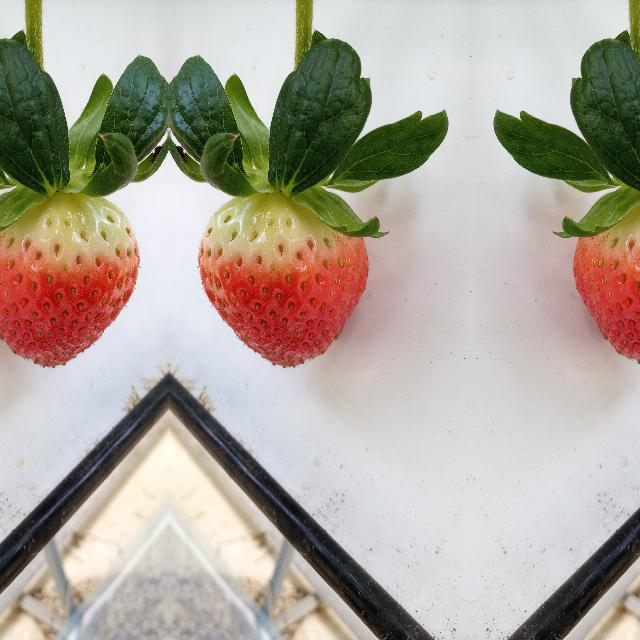Health_75: (195, 192, 368, 368), (0, 192, 140, 368), (572, 192, 640, 368)
